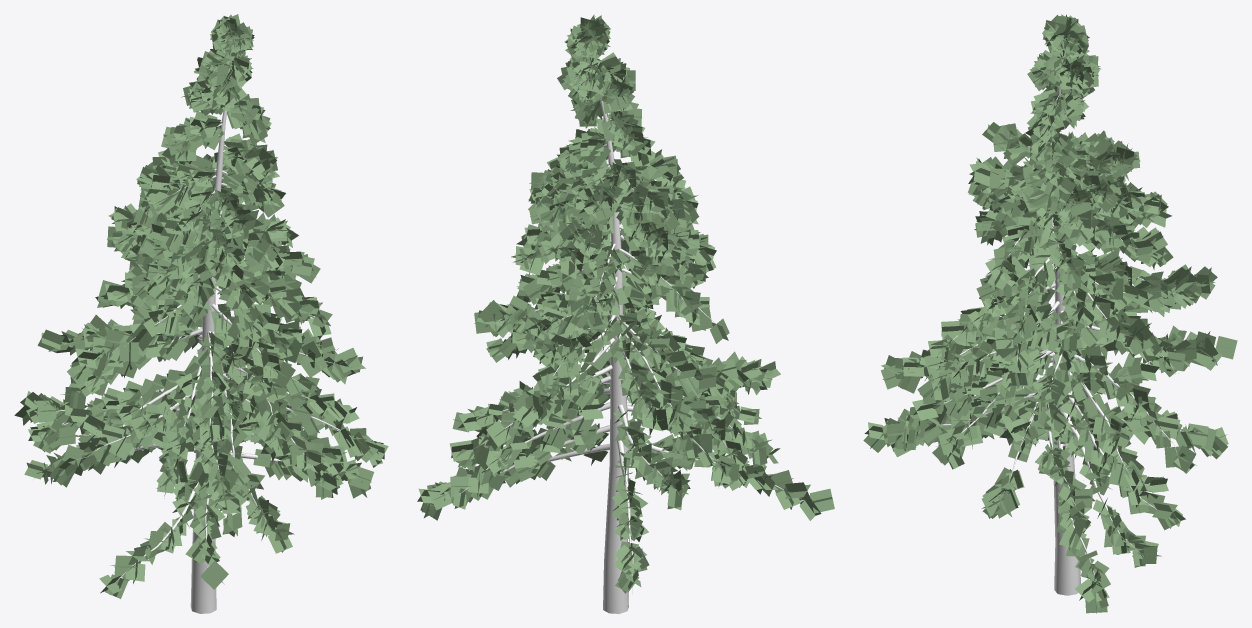
The model's file is cedar.glb.
3 renders of one model, left to right at view 1: azimuth 30°, elevation 25°; view 2: azimuth 150°, elevation 25°; view 3: azimuth 270°, elevation 25°, orthographic.
Visible parts, largest first — view 1: leaves, branches; view 2: leaves, branches; view 3: leaves, branches.
Part boxes in pixels (bbox=[...]): leaves: bbox=[14, 14, 388, 598]; branches: bbox=[21, 60, 350, 613]; leaves: bbox=[417, 14, 834, 593]; branches: bbox=[459, 98, 802, 613]; leaves: bbox=[863, 14, 1237, 613]; branches: bbox=[910, 87, 1183, 595].
Size of the model in its own units: 30.94 by 50.44 by 29.13.
